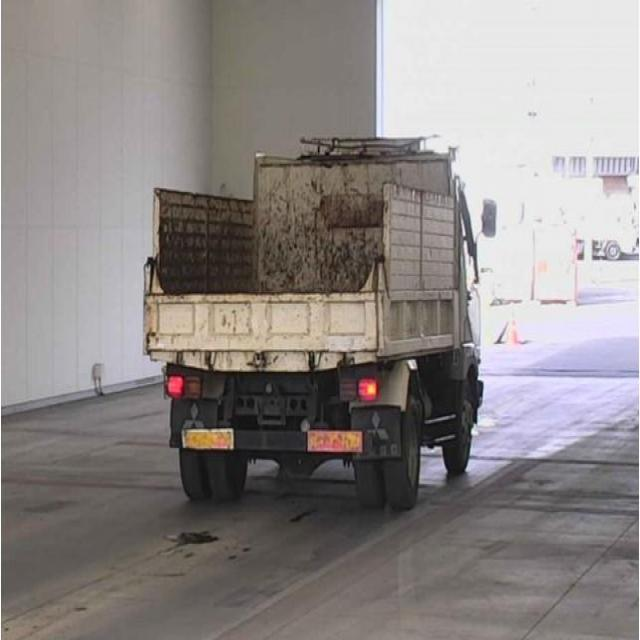Truck: (138, 130, 499, 510)
